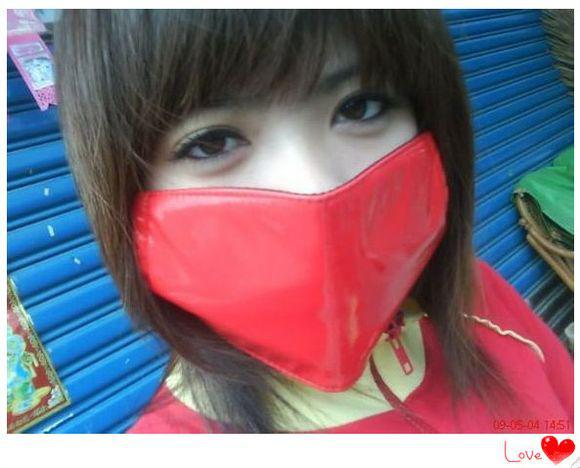WRONG: (147, 63, 439, 362)
